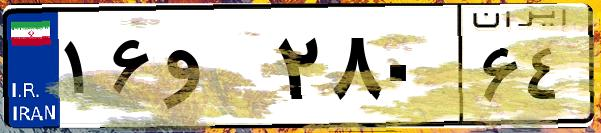0: (385, 28, 445, 110)
1: (57, 26, 110, 100)
2: (270, 28, 330, 110)
4: (525, 38, 570, 115)
6: (475, 38, 525, 113), (110, 28, 158, 98)
8: (330, 28, 385, 110)
و: (158, 20, 270, 120)
